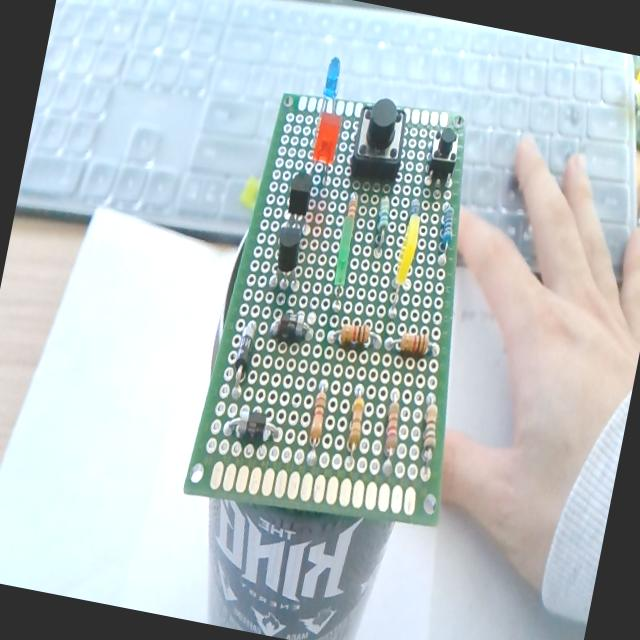diode: (217, 402, 286, 452), (264, 299, 322, 354), (229, 312, 262, 388)
led: (304, 101, 348, 185), (384, 214, 422, 306), (306, 55, 350, 134), (323, 216, 359, 294)
resistor: (400, 381, 450, 466), (363, 386, 408, 468), (338, 380, 373, 464), (302, 378, 334, 458), (324, 318, 386, 359), (383, 322, 442, 364), (434, 202, 461, 261), (371, 192, 395, 256), (402, 190, 426, 243), (341, 192, 362, 235)
switch: (343, 96, 410, 195), (418, 118, 464, 190)
transistor: (264, 225, 310, 300), (279, 170, 317, 234)
